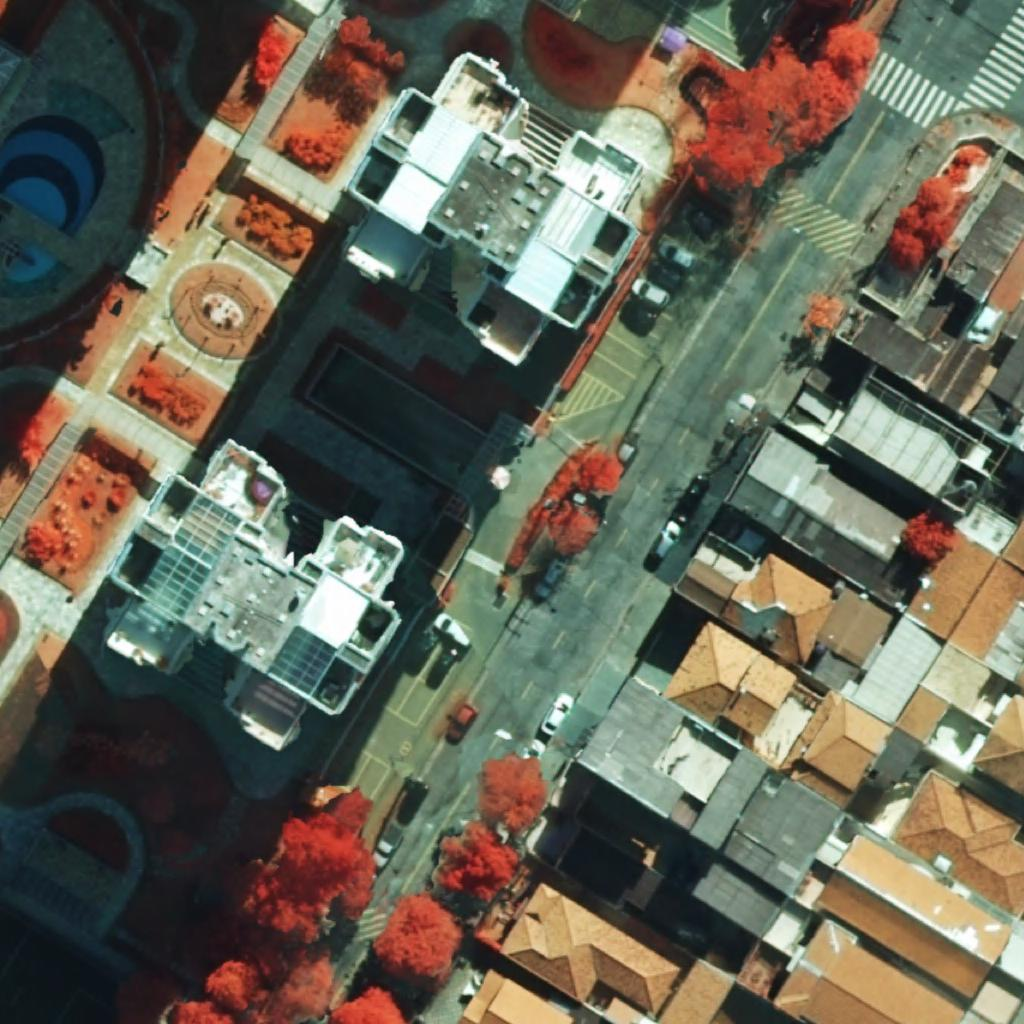pool: (0, 114, 105, 238)
